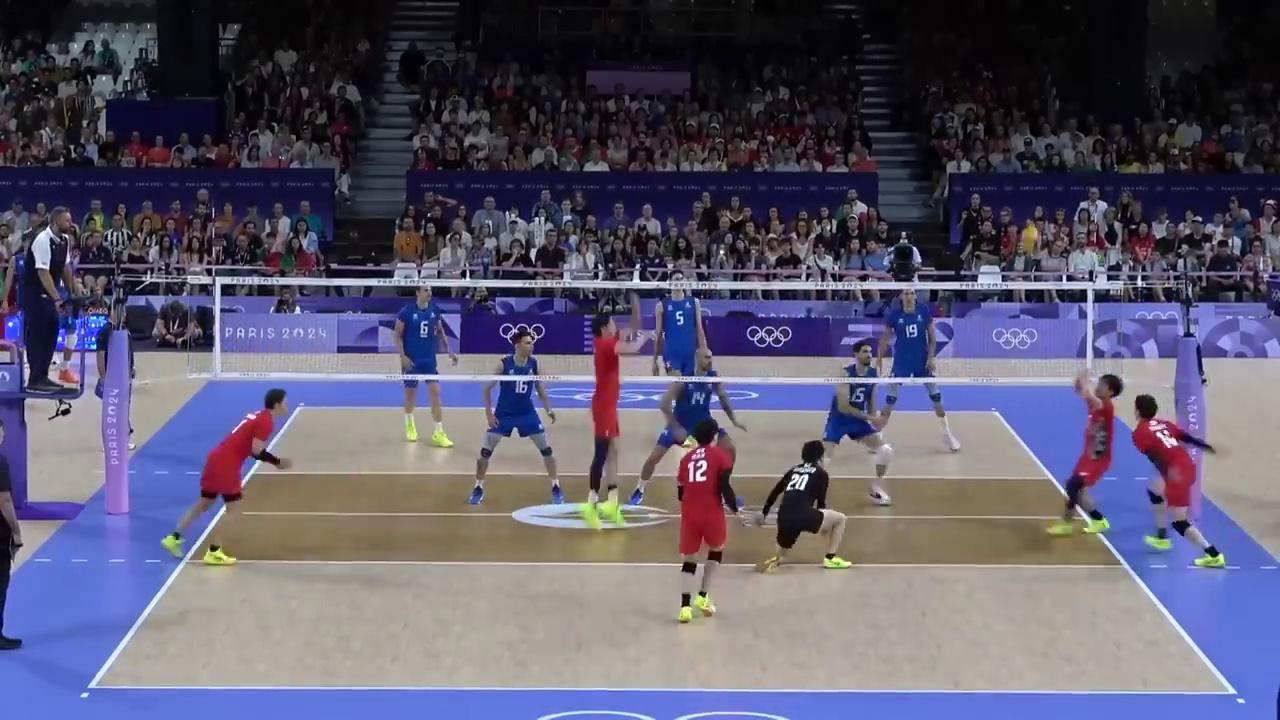ball: (1020, 228, 1038, 247)
